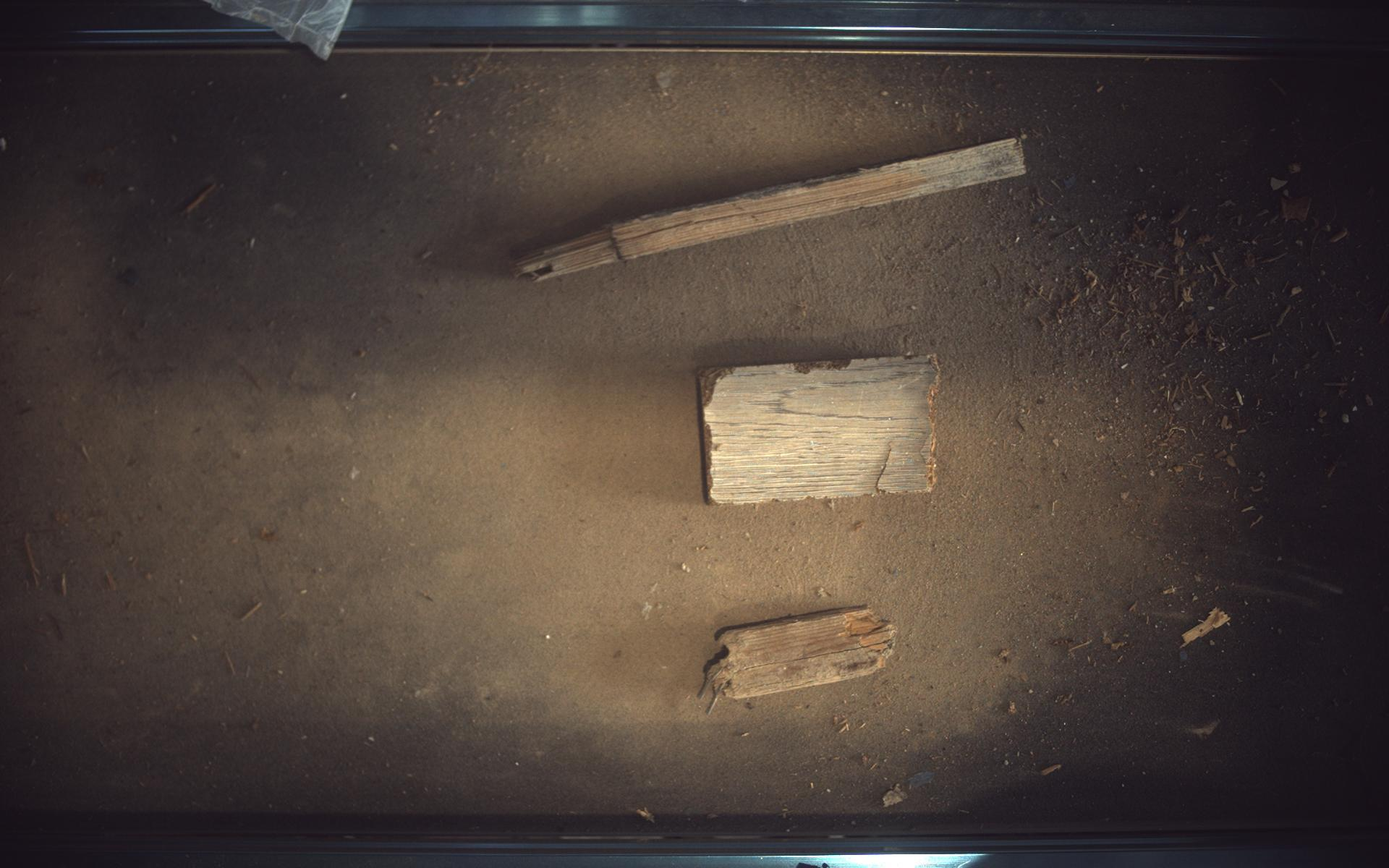wood: (514, 137, 1028, 280), (700, 354, 940, 504), (701, 606, 899, 715)
